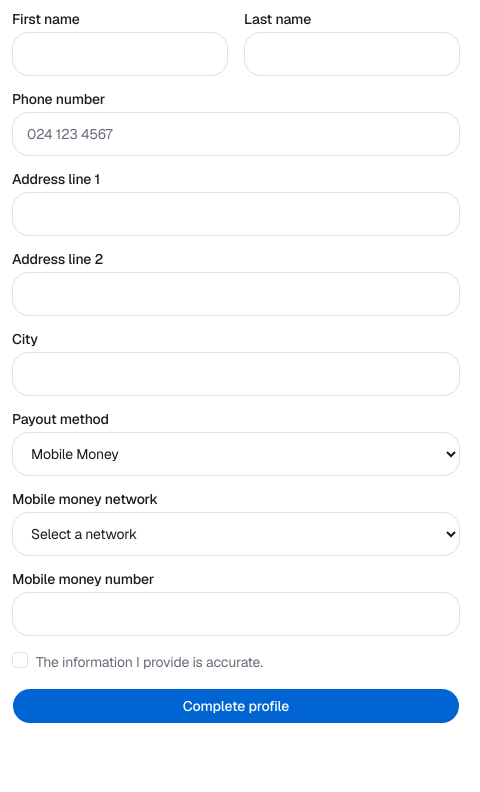
Test: ProfileForm › requires mobile money fields before submitting, since that's the default method
Type "Ama" into the field labelled "First name" at coordinates (120, 54), box [12,32,228,76]
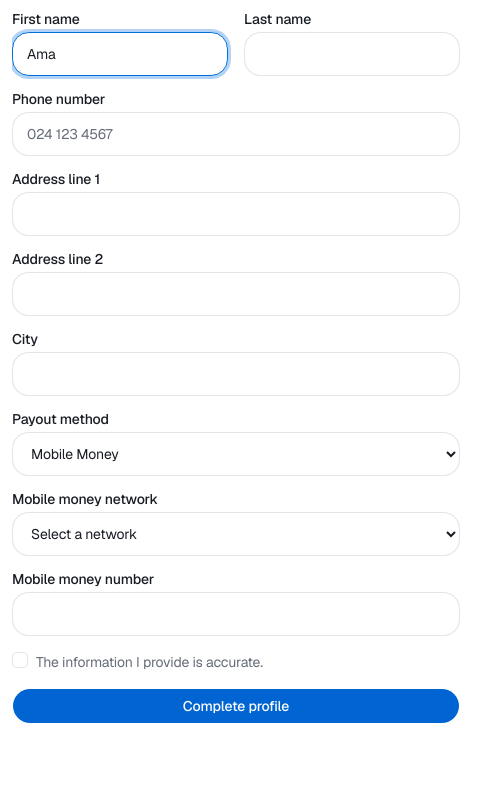
Type "Owusu" into the field labelled "Last name" at coordinates (352, 54), box [244,32,460,76]
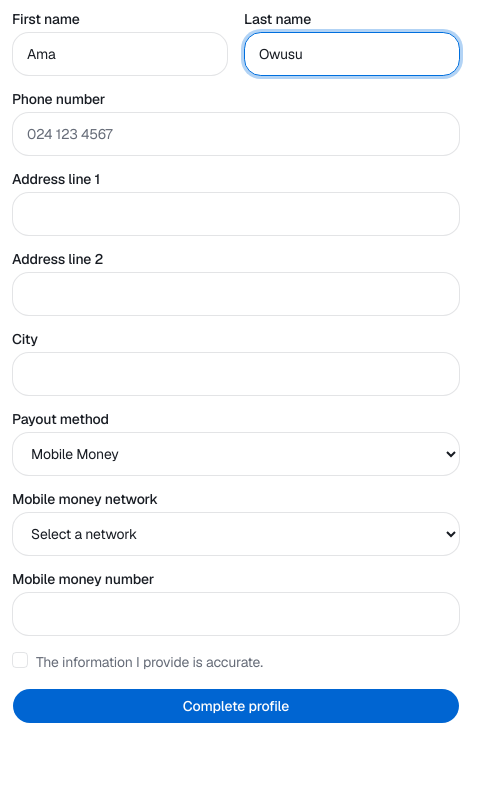
Type "0241234567" into the field labelled "Phone number" at coordinates (236, 134), box [12,112,460,156]
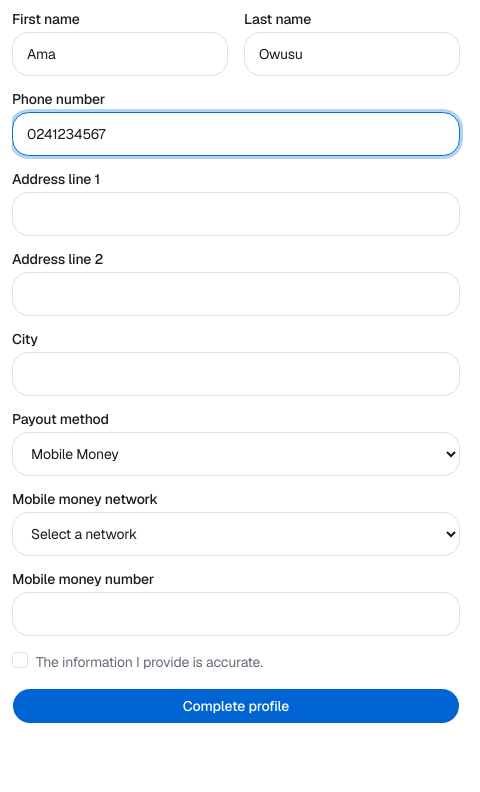
Click the 1st checkbox at coordinates (20, 660), box [12,652,28,668]
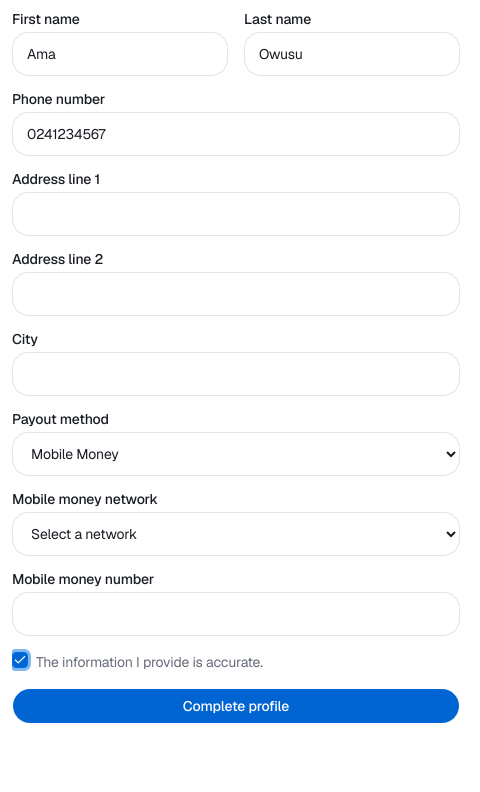
Click the button "Complete profile" at coordinates (236, 706), box [12,688,460,724]
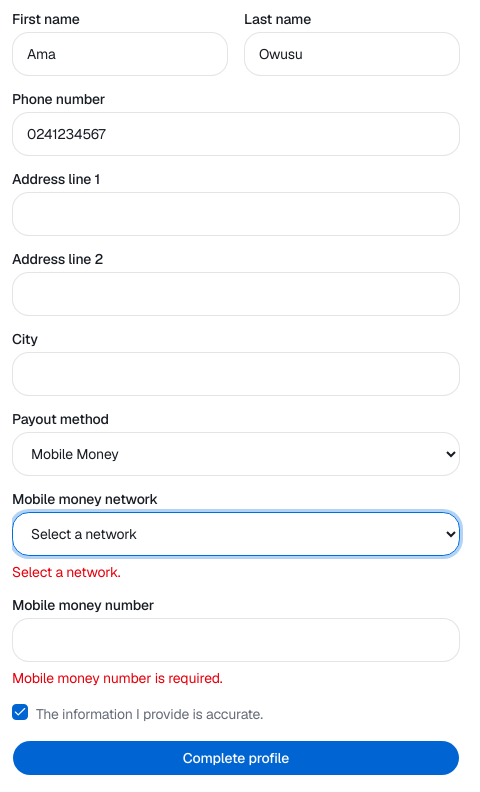
Check: the text "Select a network." is shown, box [12,563,120,581]
